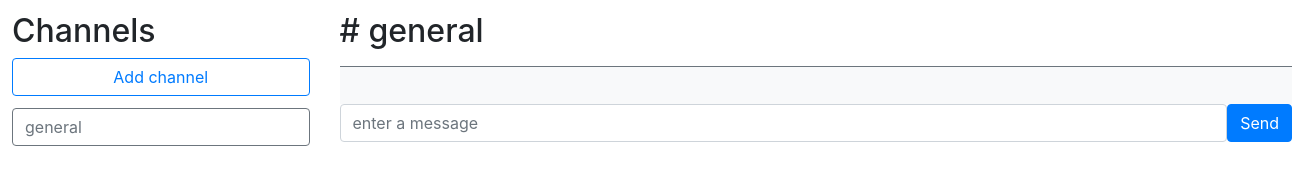
Test case: test chat message sending › component should show errors if they returned
This screenshot has width=1304, height=172.
Type "hello" into the field at (783,123), box [340,104,1227,142]
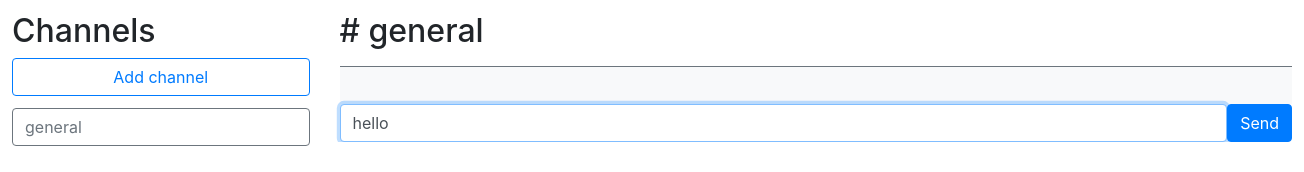
Submit the form with test id "messageForm", box [340,104,1292,142]
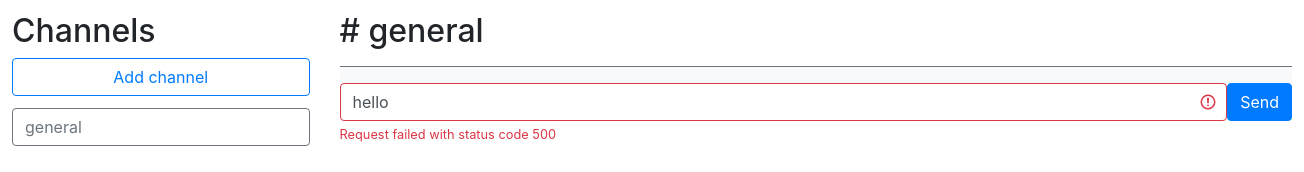
Check: the element that starts with "Channels" shows "Request failed with status code 500", box [340,127,556,142]
